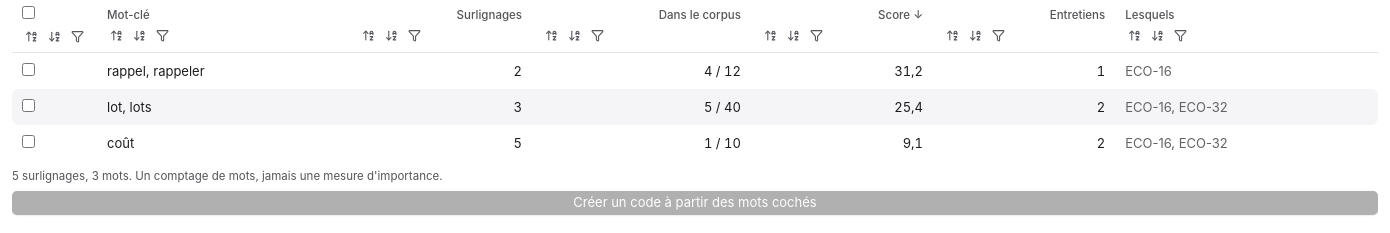
Test: KeywordTable › selects terms and offers to create a code from them
Expected: the text "lot, lots" is shown, [97, 89, 349, 125]
Expected: the button "Créer un code à partir des mots cochés" is disabled, [12, 190, 1378, 214]
Click the checkbox named "lot": x=28, y=106 [22, 99, 35, 112]
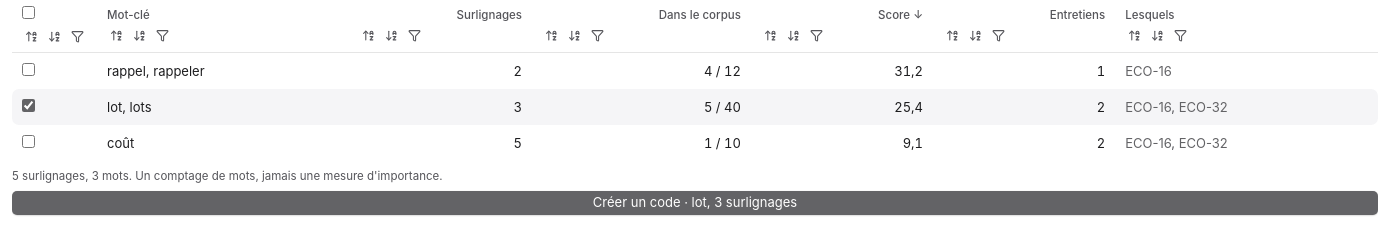
Click the checkbox named "rappel": x=28, y=69 [22, 63, 35, 76]
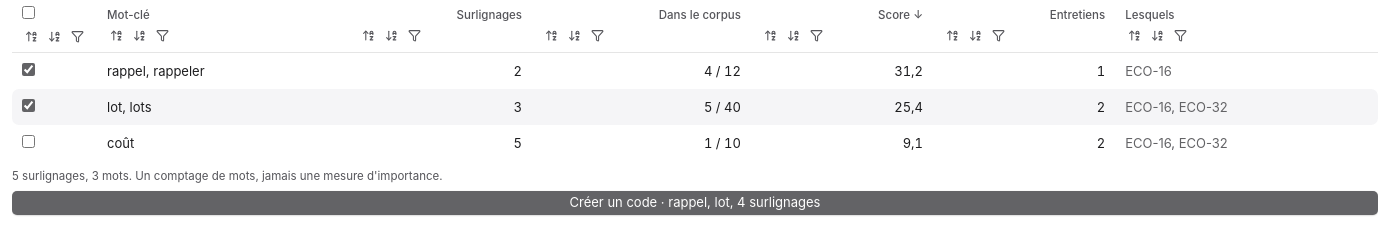
Result: the button "Créer un code · rappel, lot, 4 surlignages" is enabled at [12, 190, 1378, 214]
Click the checkbox named "Tout sélectionner": x=28, y=12 [22, 6, 35, 19]
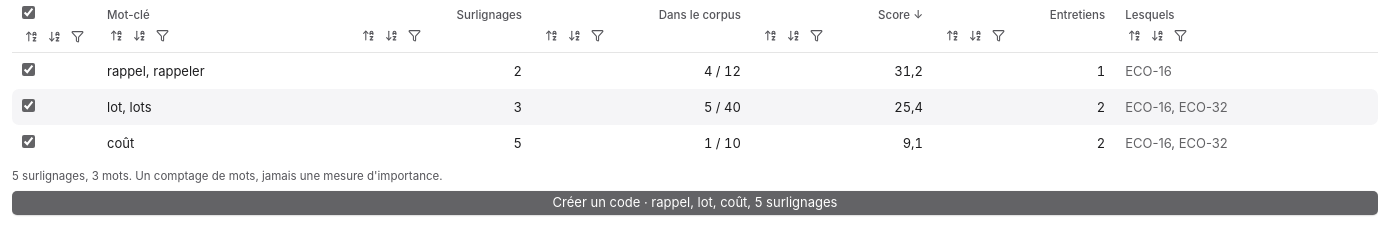
Result: the button "Créer un code · rappel, lot, coût, 5 surlignages" is shown at [12, 190, 1378, 214]
